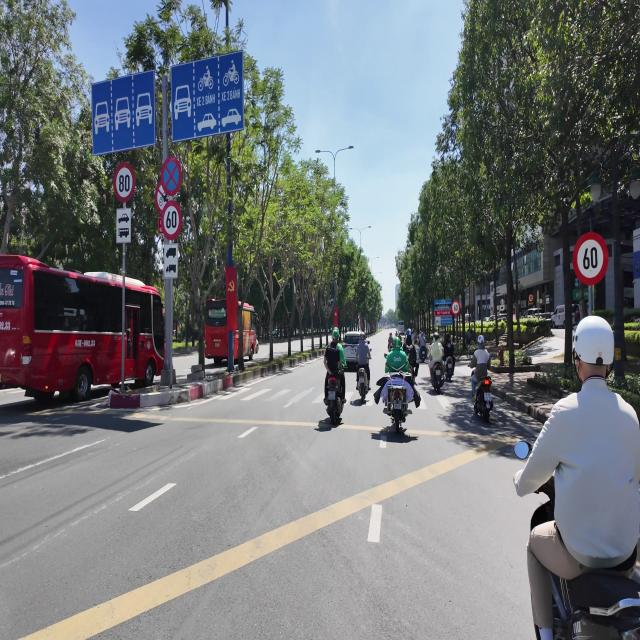car: (342, 331, 361, 368)
motorcycle: (550, 550, 639, 639), (387, 374, 408, 434), (474, 376, 493, 422), (327, 376, 342, 425), (431, 361, 444, 392), (357, 367, 368, 403), (445, 356, 453, 381), (419, 346, 427, 363)
